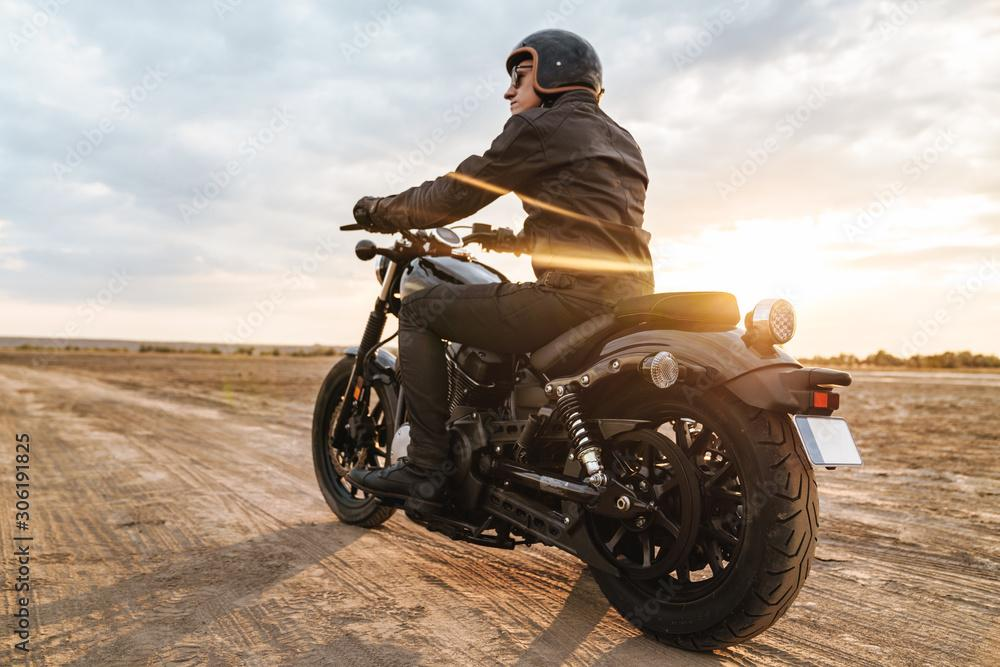helmet: (503, 27, 605, 122)
